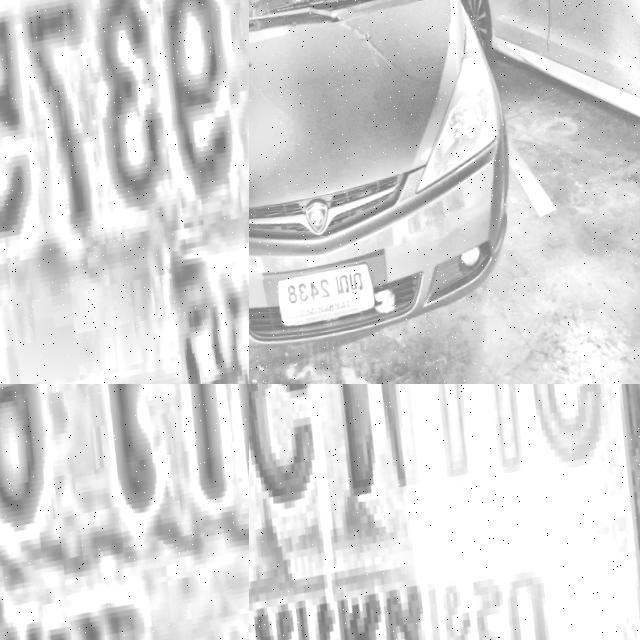license-plate: (249, 384, 640, 640), (0, 0, 249, 384), (0, 384, 249, 640), (273, 264, 382, 333)
